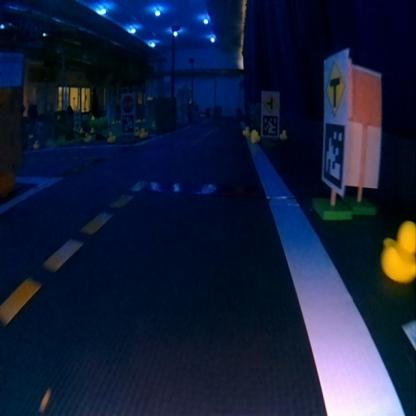Duckie: (381, 218, 415, 283), (250, 129, 259, 139), (107, 130, 115, 141), (280, 129, 287, 139), (139, 127, 146, 136), (242, 125, 249, 133), (83, 133, 90, 141)
Intersection sign: (324, 48, 347, 119), (262, 92, 278, 113)
QR code: (321, 121, 345, 191), (262, 115, 278, 136), (123, 114, 133, 132)
Stop sign: (122, 94, 133, 112)
